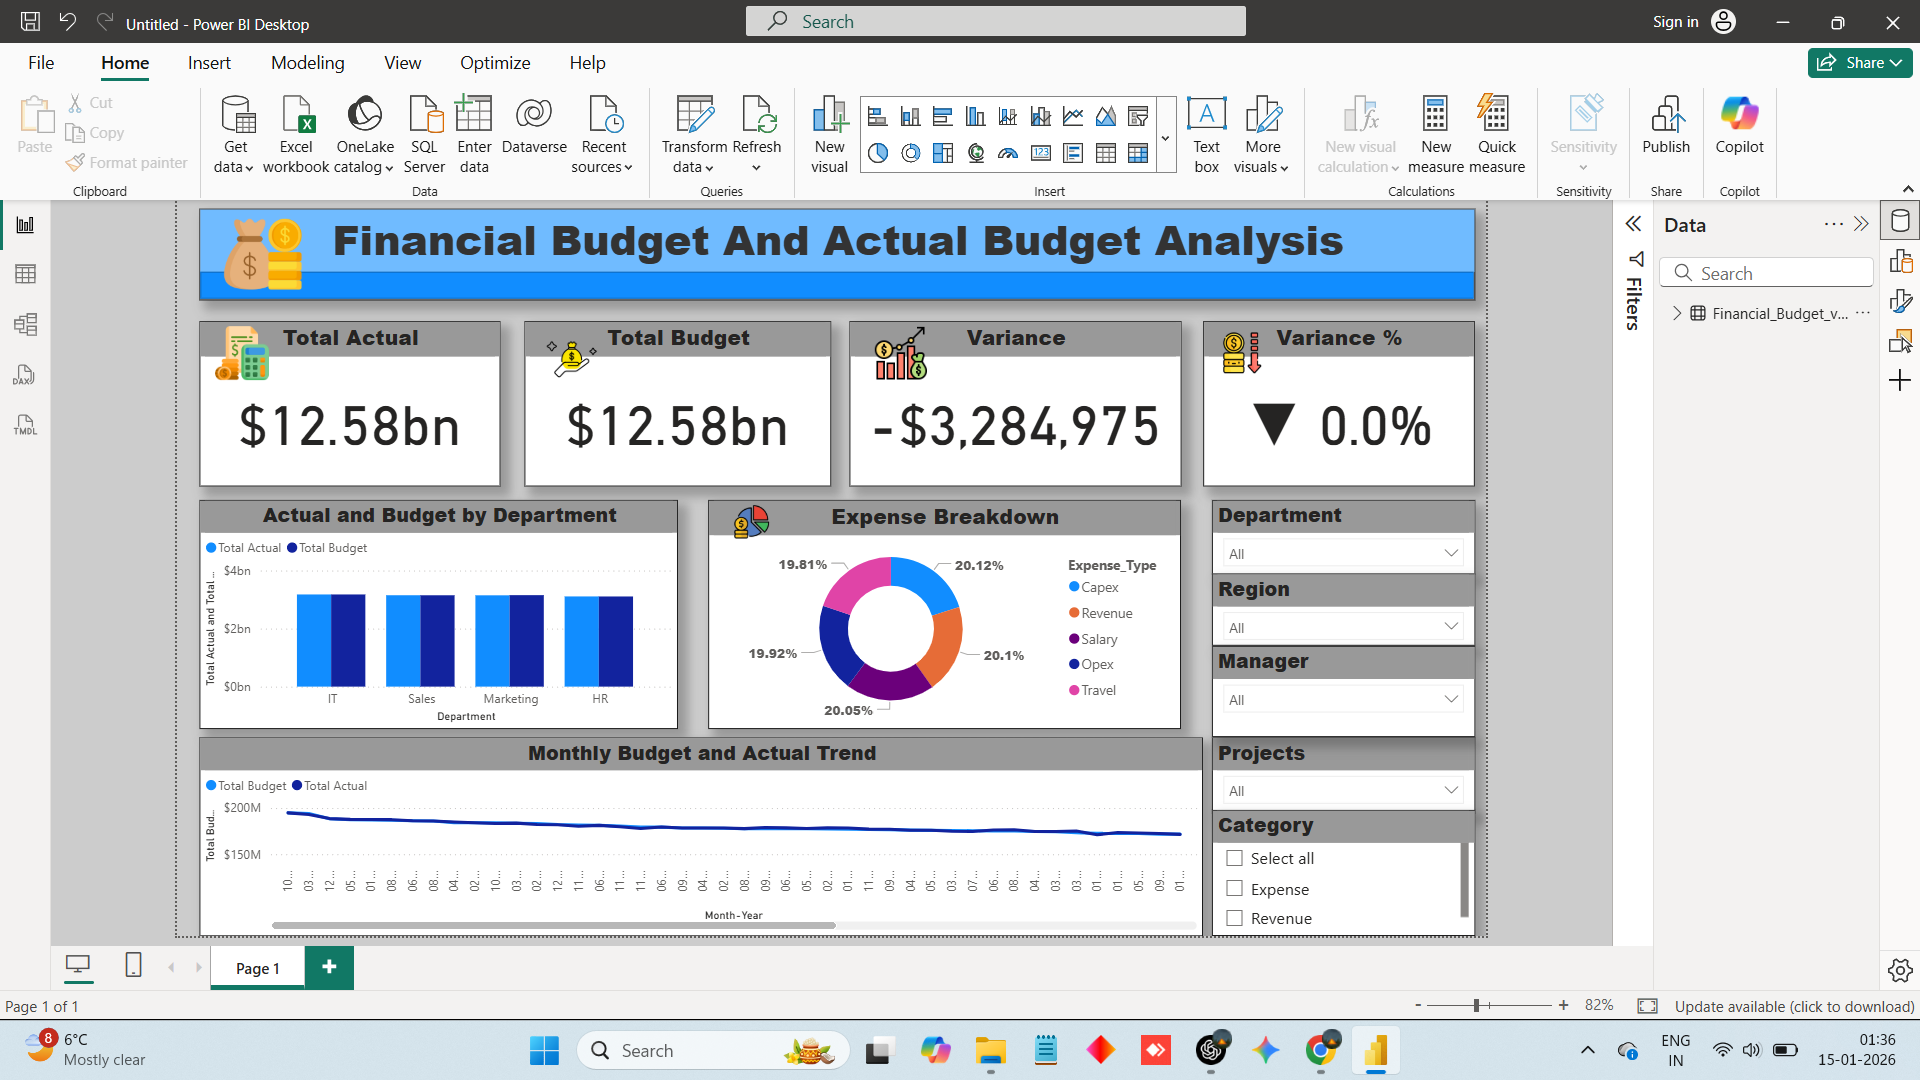

The page's visual inventory and layout, read from the dashboard file:
{"tool":"powerbi","page":{"name":"Page 1","canvas":[1280,720],"ordinal":0},"visuals":[{"type":"card","title":"Total Actual","fields":{"Values":["Financial_Budget_vs_Actual.Total Actual"]},"box":[21.6,118.3,294.3,161.6],"z":0},{"type":"card","title":"Total Budget","fields":{"Values":["Financial_Budget_vs_Actual.Total Budget"]},"box":[340.5,118.3,300.1,161.6],"z":1000},{"type":"card","title":"Variance %","fields":{"Values":["Financial_Budget_vs_Actual.% Variance"]},"box":[1004.2,118.3,265.5,161.6],"z":2000},{"type":"card","title":"Variance","fields":{"Values":["Financial_Budget_vs_Actual.Variance Measure"]},"box":[657.9,118.3,324.6,161.6],"z":3000},{"type":"shape","title":"Financial Budget And Actual Budget Analysis","box":[21.6,8.7,1248,89.5],"z":4000},{"type":"clusteredColumnChart","title":"Actual and Budget by Department","fields":{"Category":["Financial_Budget_vs_Actual.Department"],"Y":["Financial_Budget_vs_Actual.Total Actual","Financial_Budget_vs_Actual.Total Budget"]},"box":[22,293.5,468.3,223.8],"z":5000},{"type":"donutChart","title":"Expense Breakdown","fields":{"Category":["Financial_Budget_vs_Actual.Expense_Type"],"Y":["Financial_Budget_vs_Actual.Total Actual"]},"box":[519.7,293.5,462.2,223.8],"z":6000},{"type":"lineChart","title":"Monthly Budget and Actual Trend","fields":{"Category":["Financial_Budget_vs_Actual.Month-Year"],"Y":["Financial_Budget_vs_Actual.Total Budget","Financial_Budget_vs_Actual.Total Actual"]},"box":[22,525.8,981.9,194.4],"z":7000},{"type":"slicer","title":"Department","fields":{"Values":["Financial_Budget_vs_Actual.Department"]},"box":[1012.9,293.5,257.3,72.5],"z":8000},{"type":"slicer","title":"Region","fields":{"Values":["Financial_Budget_vs_Actual.Region"]},"box":[1012.9,366,257.3,70.7],"z":9000},{"type":"slicer","title":"Projects","fields":{"Values":["Financial_Budget_vs_Actual.Project"]},"box":[1012.9,525.5,257.3,74.3],"z":10000},{"type":"slicer","title":"Manager","fields":{"Values":["Financial_Budget_vs_Actual.Manager"]},"box":[1012.9,436.7,257.3,88.8],"z":11000},{"type":"slicer","title":"Category","fields":{"Values":["Financial_Budget_vs_Actual.Category"]},"box":[1012.9,596.2,257.3,123.2],"z":13000},{"type":"image","box":[22,8.6,124.7,89.3],"z":13001},{"type":"image","box":[539.3,280,47.7,69.7],"z":13002},{"type":"image","box":[22,118.6,83.2,62.4],"z":13003},{"type":"image","box":[1012.5,124.7,59.9,50.1],"z":13004},{"type":"image","box":[673.8,118.6,68.5,62.4],"z":13005},{"type":"image","box":[352.2,118.6,68.5,74.6],"z":13006}]}

Visuals, with their boxes on the page's 1280x720 design canvas (x1, y1, x2, y2). These are canvas units, not pixel positions in the 1920x1080 screenshot, which may show the page scaled, cropped or inside an application window:
"Total Actual" card: box(22, 118, 316, 280)
"Total Budget" card: box(340, 118, 641, 280)
"Variance %" card: box(1004, 118, 1270, 280)
"Variance" card: box(658, 118, 982, 280)
"Financial Budget And Actual Budget Analysis" shape: box(22, 9, 1270, 98)
"Actual and Budget by Department" clusteredColumnChart: box(22, 294, 490, 517)
"Expense Breakdown" donutChart: box(520, 294, 982, 517)
"Monthly Budget and Actual Trend" lineChart: box(22, 526, 1004, 720)
"Department" slicer: box(1013, 294, 1270, 366)
"Region" slicer: box(1013, 366, 1270, 437)
"Projects" slicer: box(1013, 526, 1270, 600)
"Manager" slicer: box(1013, 437, 1270, 526)
"Category" slicer: box(1013, 596, 1270, 719)
image: box(22, 9, 147, 98)
image: box(539, 280, 587, 350)
image: box(22, 119, 105, 181)
image: box(1012, 125, 1072, 175)
image: box(674, 119, 742, 181)
image: box(352, 119, 421, 193)
